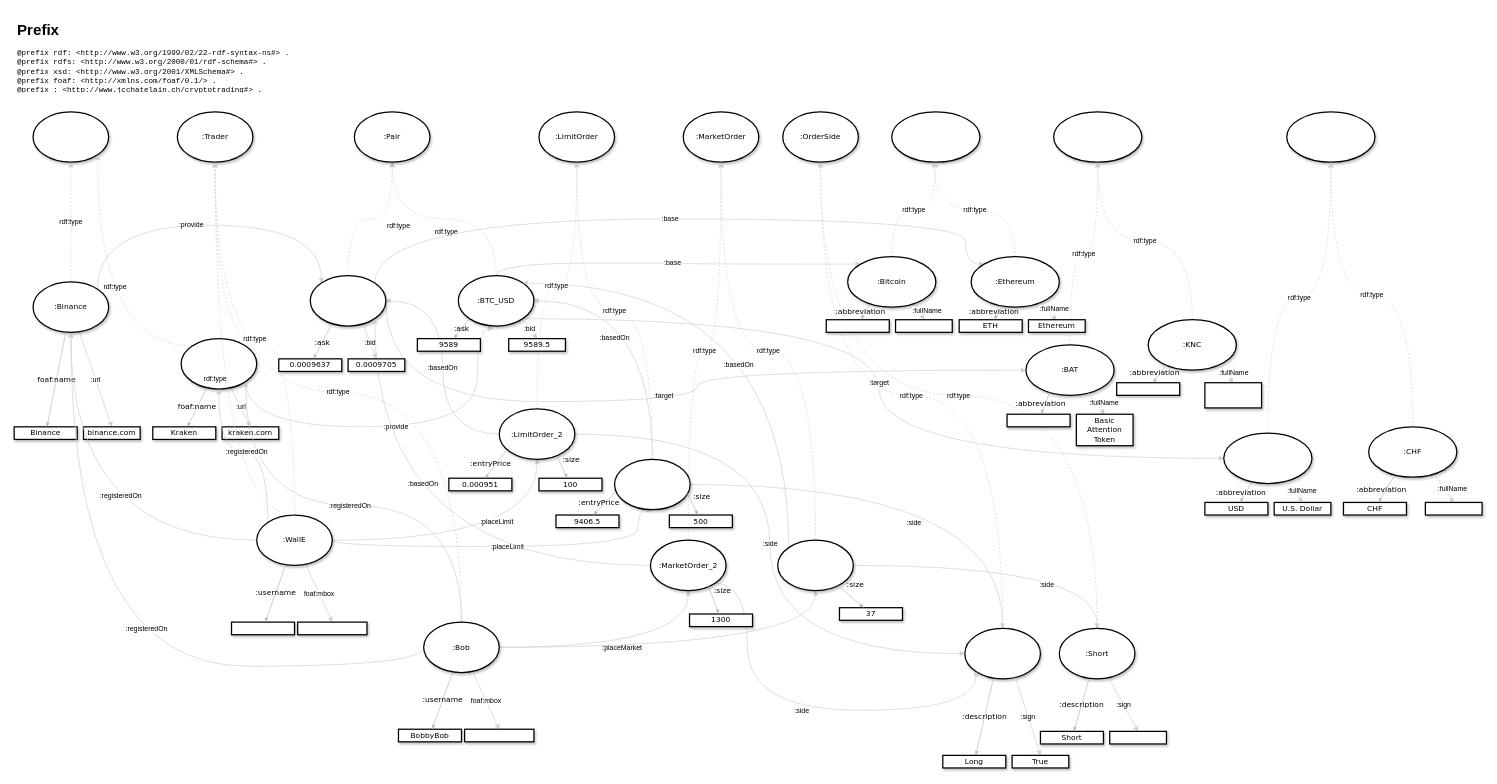
Image size: 1497x784. Some labels were removed from this diagram. The centre of each missing label's shape, as x and y in pixels:
":Coin" belongs at [936,137].
":ETH_BAT" belongs at [348,301].
":Exchange" belongs at [71,137].
":Fiat" belongs at [1331,137].
":Kraken" belongs at [219,364].
":LimitOrder_1" belongs at [652,485].
":Long" belongs at [1003,654].
":MarketOrder_1" belongs at [815,566].
":Token" belongs at [1098,137].
":USD" belongs at [1268,459].
"<bob@bob.com>" belongs at [499,736].
"<bot@bot.com>" belongs at [332,629].
"BAT" belongs at [1039,421].
"Bitcoin" belongs at [924,326].
"BTC" belongs at [858,326].
"False" belongs at [1138,738].
"KNC" belongs at [1148,389].
"Kyber Network" belongs at [1233,396].
"Swiss Franc" belongs at [1454,509].
"WallyRobot" belongs at [263,629].
